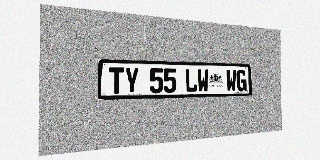5: (150, 68, 163, 93), (164, 68, 176, 93)
G: (237, 70, 246, 91)
L: (185, 69, 197, 92)
T: (109, 67, 124, 94)
W: (197, 69, 209, 92), (226, 69, 236, 92)
Y: (125, 67, 139, 94)
